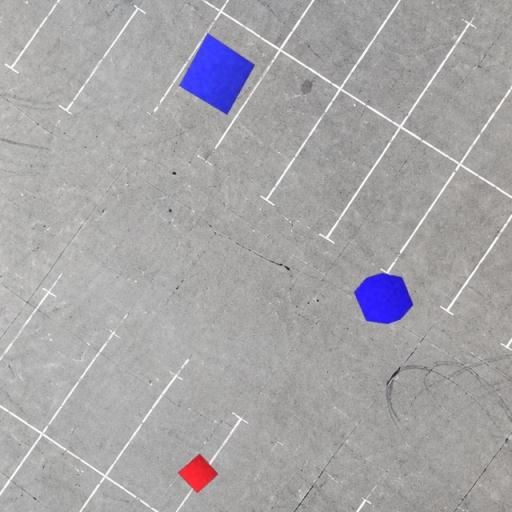BLUE_SQUARE: (178, 33, 256, 116)
RED_SQUARE: (178, 452, 219, 494)
